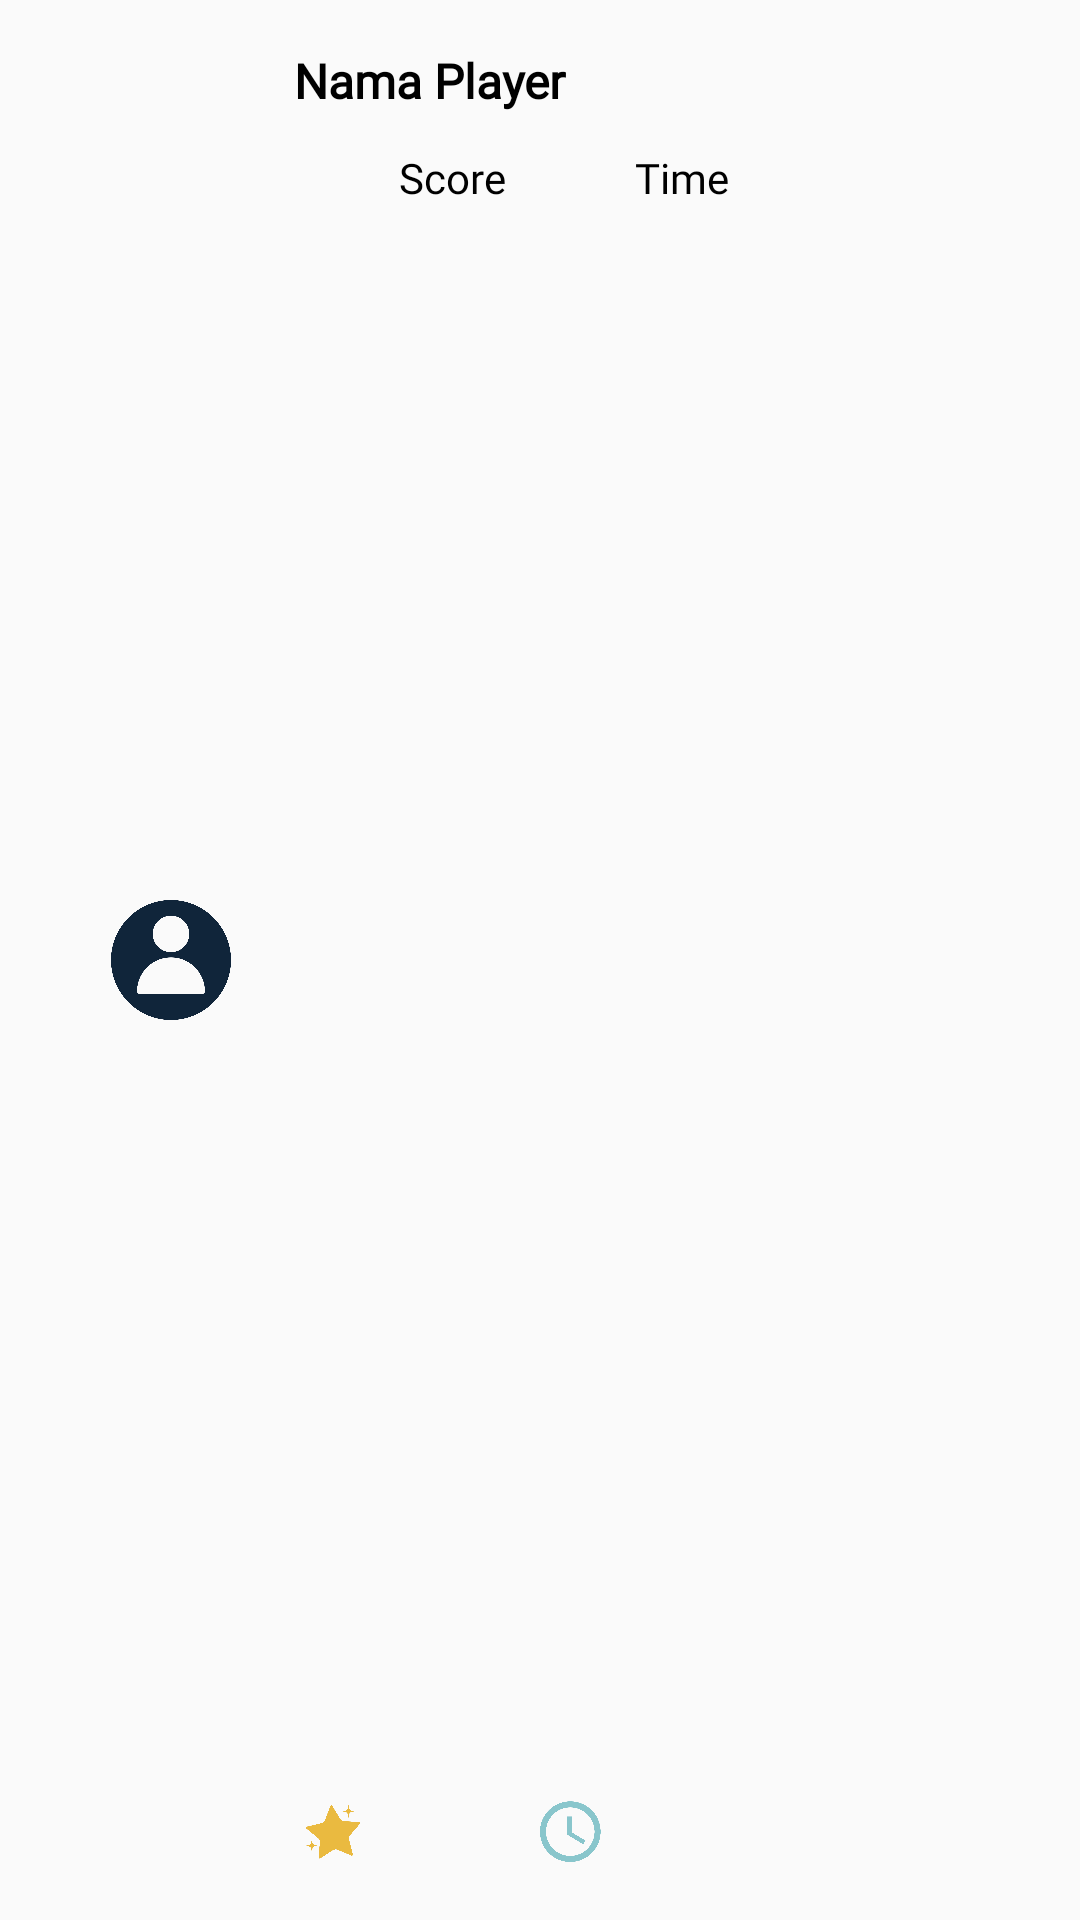

Screen size 1080 × 1920. Icon name, then its center in pixels as point (x, y):
points: point (333, 1832)
time: point (570, 1831)
user: point (171, 960)
